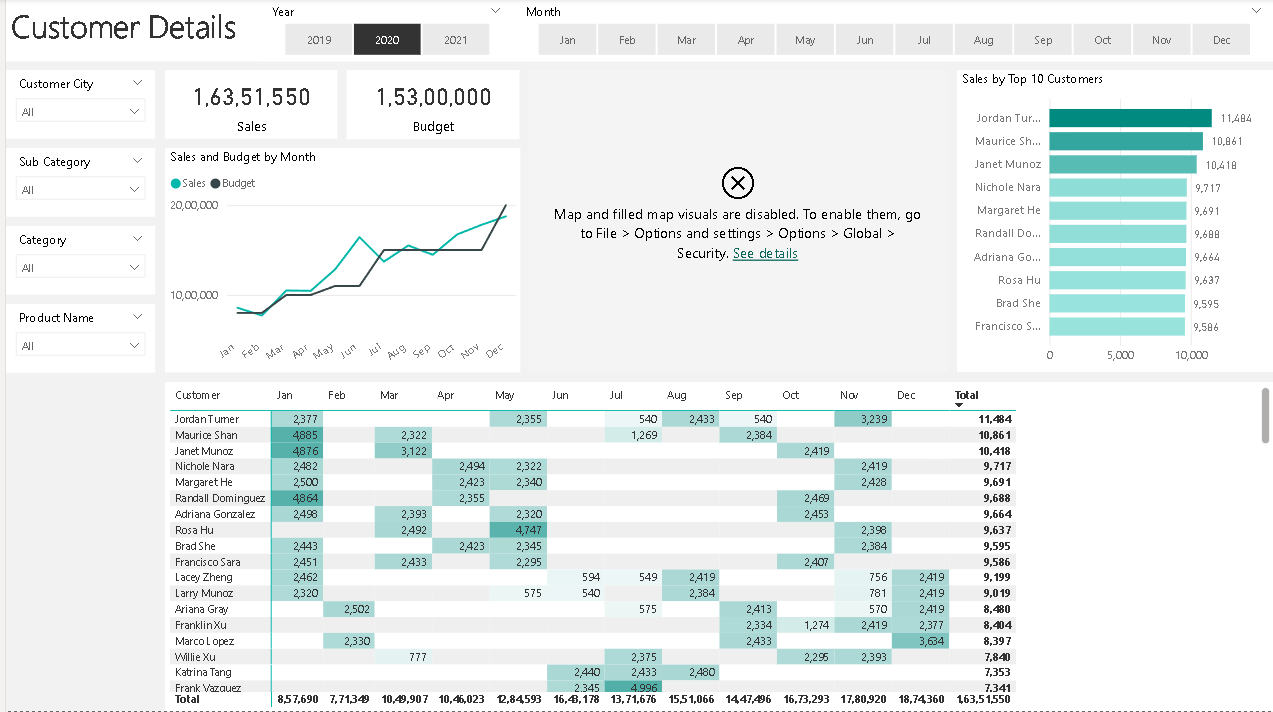

Layout of this report page (visuals, bound fields, positions):
{"tool":"powerbi","page":{"name":"Customer Details","canvas":[1280,720],"ordinal":1},"visuals":[{"type":"textbox","box":[0,0,1280,64],"z":0},{"type":"slicer","fields":{"Values":["DIM_Calendar.Year"]},"box":[256,0,256,64],"z":1000},{"type":"slicer","fields":{"Values":["DIM_Calendar.MonthShort"]},"box":[512,0,768,64],"z":2000},{"type":"slicer","fields":{"Values":["DIM_Customers.Customer City"]},"box":[0,73,150.5,69.3],"z":3000},{"type":"slicer","fields":{"Values":["DIM_Products.Product Category"]},"box":[0,229.9,150.5,69.3],"z":4000},{"type":"slicer","fields":{"Values":["DIM_Products.Product Name"]},"box":[0,308.4,150.5,69.3],"z":5000},{"type":"slicer","fields":{"Values":["DIM_Products.Sub Category"]},"box":[0,151.4,150.5,69.3],"z":6000},{"type":"lineChart","fields":{"Category":["DIM_Calendar.MonthShort"],"Y":["Analysis Metrics.Sales","Analysis Metrics.Budget"]},"box":[159.8,151.8,358.7,226.4],"z":7000},{"type":"card","fields":{"Values":["Analysis Metrics.Sales"]},"box":[160.7,72.8,174,69.2],"z":8000},{"type":"map","fields":{"Category":["DIM_Customers.Customer City"],"Size":["Analysis Metrics.Sales"]},"box":[527.3,72.8,423.5,304.5],"z":9000},{"type":"card","fields":{"Values":["Analysis Metrics.Budget"]},"box":[343.6,72.8,174.9,70.1],"z":10000},{"type":"pivotTable","fields":{"Rows":["DIM_Customers.Full Name"],"Columns":["DIM_Calendar.MonthShort"],"Values":["Analysis Metrics.Sales"]},"box":[159.8,387.1,1120.4,332.9],"z":11000},{"type":"barChart","title":"Sales by Top 10 Customers","fields":{"Category":["DIM_Customers.Full Name"],"Y":["Analysis Metrics.Sales"]},"box":[959.7,72.8,320.5,304.5],"z":12000}]}

Visuals, with their boxes in screenshot pixels (x1, y1, x2, y2), scaled from the page's 1280x720 canvas onto the 1273x712 screenshot:
textbox: BBox(0, 0, 1272, 63)
slicer - DIM_Calendar.Year: BBox(255, 0, 509, 63)
slicer - DIM_Calendar.MonthShort: BBox(509, 0, 1272, 63)
slicer - DIM_Customers.Customer City: BBox(0, 72, 150, 141)
slicer - DIM_Products.Product Category: BBox(0, 227, 150, 296)
slicer - DIM_Products.Product Name: BBox(0, 305, 150, 374)
slicer - DIM_Products.Sub Category: BBox(0, 150, 150, 218)
lineChart - DIM_Calendar.MonthShort x Analysis Metrics.Sales: BBox(159, 150, 516, 374)
card - Analysis Metrics.Sales: BBox(160, 72, 333, 140)
map - DIM_Customers.Customer City x Analysis Metrics.Sales: BBox(524, 72, 946, 373)
card - Analysis Metrics.Budget: BBox(342, 72, 516, 141)
pivotTable - DIM_Customers.Full Name x DIM_Calendar.MonthShort: BBox(159, 383, 1272, 711)
"Sales by Top 10 Customers" barChart: BBox(954, 72, 1272, 373)
